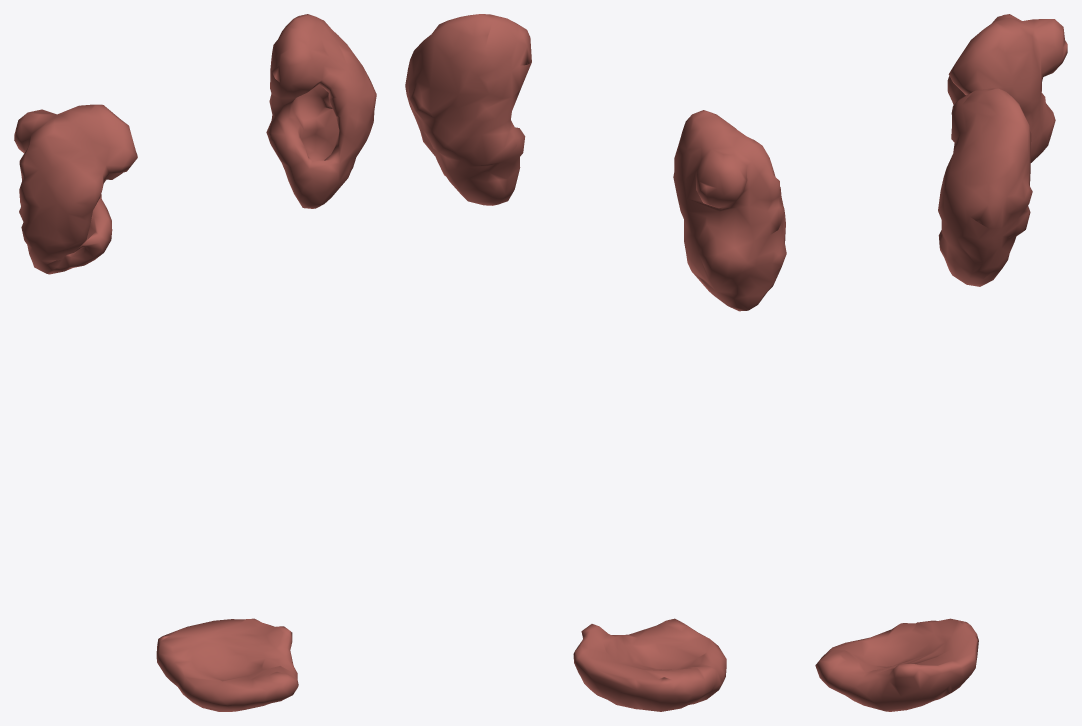
The model's file is tsd_s0327_older_adult_male.urinary.LOD4.glb.
3 views of the same model, side by side, from view 1: azimuth 30°, elevation 25°; view 2: azimuth 150°, elevation 25°; view 3: azimuth 270°, elevation 25° (orthographic). The views are drawn at different scales.
Parts seen in each view (by area): view 1: TSD_S0327.OLDER_ADULT.MALE.URINARY.KIDNEY.R, TSD_S0327.OLDER_ADULT.MALE.URINARY.KIDNEY.L, TSD_S0327.OLDER_ADULT.MALE.URINARY.URINARY_BLADDER; view 2: TSD_S0327.OLDER_ADULT.MALE.URINARY.KIDNEY.L, TSD_S0327.OLDER_ADULT.MALE.URINARY.KIDNEY.R, TSD_S0327.OLDER_ADULT.MALE.URINARY.URINARY_BLADDER; view 3: TSD_S0327.OLDER_ADULT.MALE.URINARY.KIDNEY.L, TSD_S0327.OLDER_ADULT.MALE.URINARY.URINARY_BLADDER, TSD_S0327.OLDER_ADULT.MALE.URINARY.KIDNEY.R.
Boxes of the visible parts, box(x1,y1,x2,y2) form: TSD_S0327.OLDER_ADULT.MALE.URINARY.KIDNEY.R: box(14, 104, 137, 274); TSD_S0327.OLDER_ADULT.MALE.URINARY.KIDNEY.L: box(266, 14, 376, 208); TSD_S0327.OLDER_ADULT.MALE.URINARY.URINARY_BLADDER: box(156, 618, 298, 711); TSD_S0327.OLDER_ADULT.MALE.URINARY.KIDNEY.L: box(405, 14, 531, 205); TSD_S0327.OLDER_ADULT.MALE.URINARY.KIDNEY.R: box(673, 110, 786, 311); TSD_S0327.OLDER_ADULT.MALE.URINARY.URINARY_BLADDER: box(573, 618, 726, 711); TSD_S0327.OLDER_ADULT.MALE.URINARY.KIDNEY.L: box(938, 88, 1032, 286); TSD_S0327.OLDER_ADULT.MALE.URINARY.URINARY_BLADDER: box(815, 618, 978, 711); TSD_S0327.OLDER_ADULT.MALE.URINARY.KIDNEY.R: box(947, 14, 1067, 162).
Size of the model in its own units: 0.182 by 0.317 by 0.1088.
